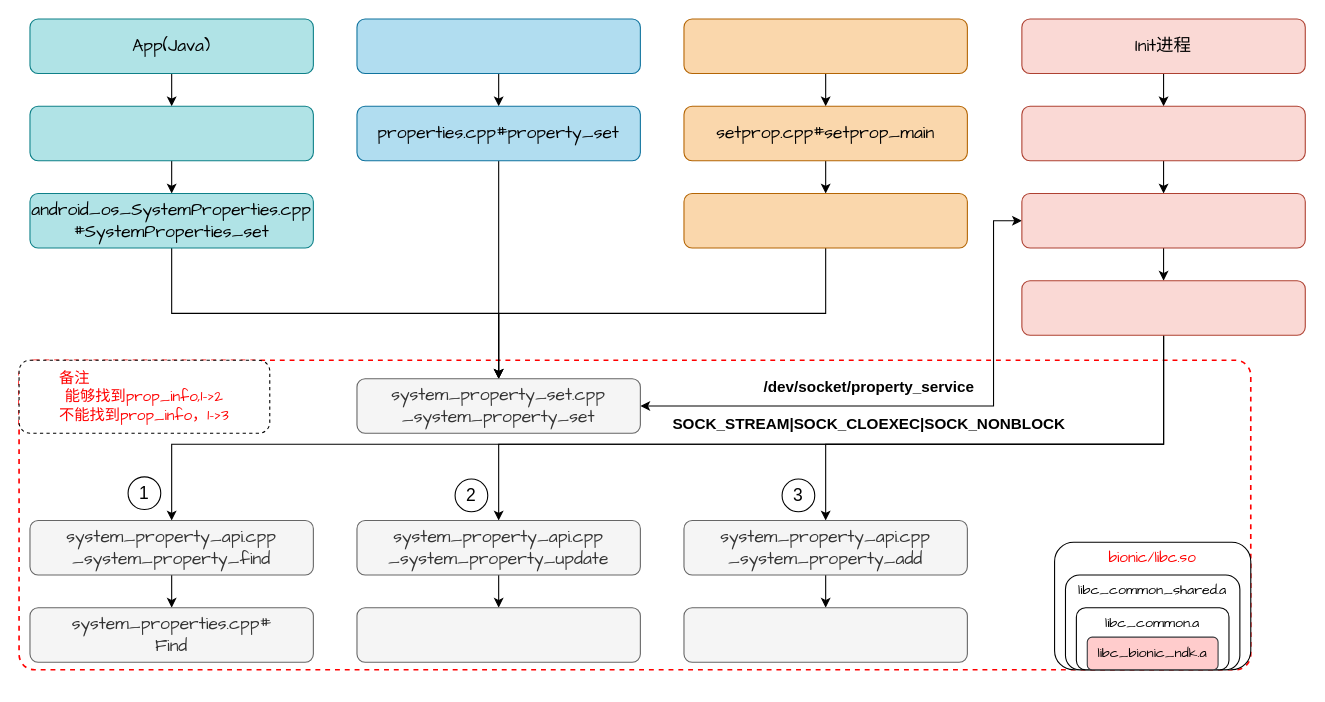
The diagram is 1325 pixels wide and 702 high, and some of its shapes have lost their labels. The shapes that lost their labels are listed below. From the top down, each one's centre as x and y in pixels, then its label:
pixel 498 46: App(Native)
pixel 825 46: adb setprop
pixel 171 133: SysyemProperty.java# setProperty
pixel 1163 133: property_service.cpp# InitPropertySet
pixel 825 220: setprop.cpp#SetProperty
pixel 1163 220: property_service.cpp# HandlePropertySet
pixel 1163 307: property_service.cpp# PropertySet
pixel 498 634: system_properties.cpp# Update
pixel 825 634: system_properties.cpp# Add
